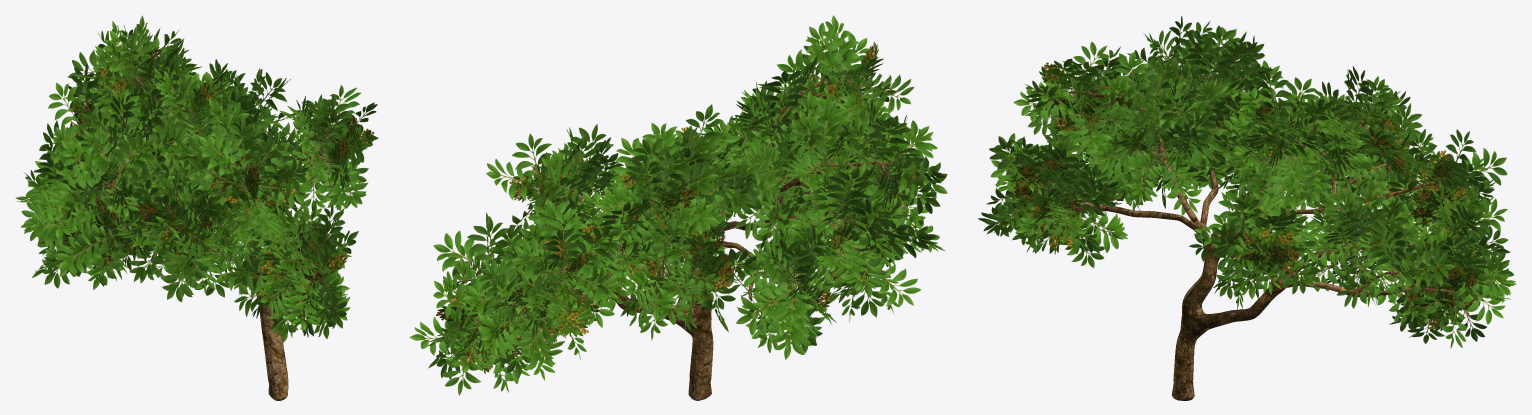
Rendered from longan.glb.
3 views of the same model, side by side, from view 1: azimuth 30°, elevation 25°; view 2: azimuth 150°, elevation 25°; view 3: azimuth 270°, elevation 25° (orthographic). The views are drawn at different scales.
Visible parts, largest first — view 1: ใบลำไย (×82), Cube, ใบลำไยกับลูกลำไย (×4); view 2: ใบลำไย (×80), Cube; view 3: ใบลำไย (×46), Cube.
Part boxes in pixels (<box>): ใบลำไย (×82): <box>30,15,369,342</box>; Cube: <box>73,74,335,400</box>; ใบลำไยกับลูกลำไย (×4): <box>107,142,347,255</box>; ใบลำไย (×80): <box>409,15,947,395</box>; Cube: <box>474,80,902,400</box>; ใบลำไย (×46): <box>989,25,1515,348</box>; Cube: <box>1035,70,1454,400</box>.
Size of the model in its own units: 12.32 by 10.25 by 15.97.
3 materials, 3 textured.
